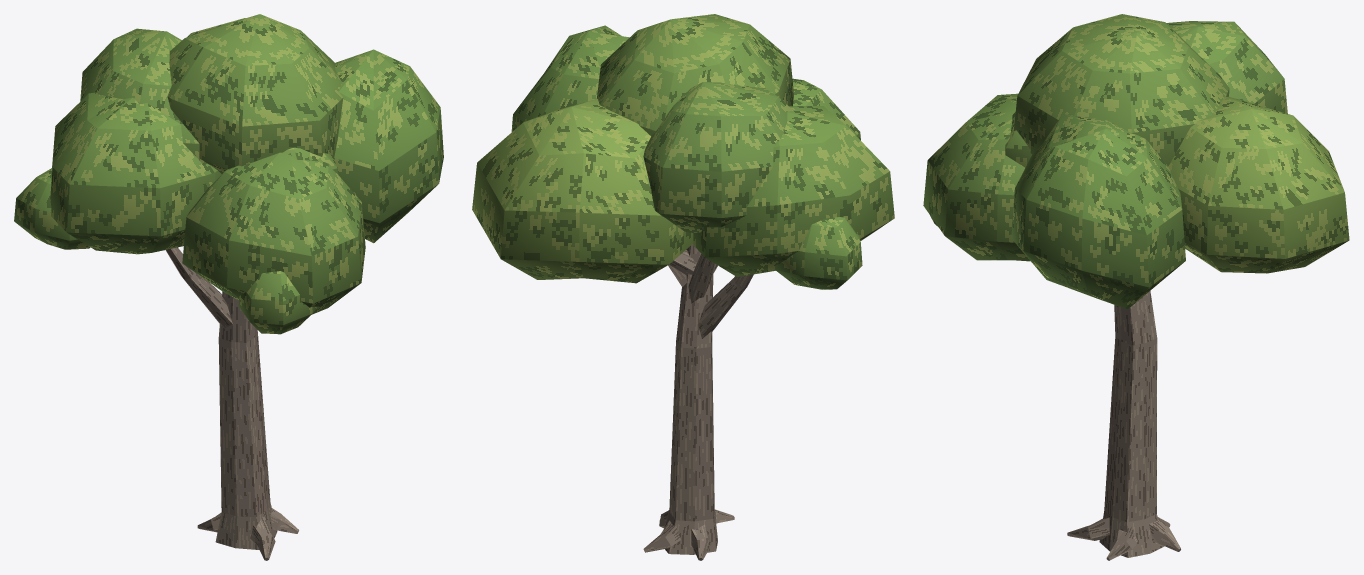
File: t_tree_maple.glb
3 views of the same model, side by side, from view 1: azimuth 30°, elevation 25°; view 2: azimuth 150°, elevation 25°; view 3: azimuth 270°, elevation 25° (orthographic).
Visible parts, largest first — view 1: t_tree_maple_mesh; view 2: t_tree_maple_mesh; view 3: t_tree_maple_mesh.
Boxes of the visible parts, box(x1,y1,x2,y2) form: t_tree_maple_mesh: box(14, 14, 443, 560); t_tree_maple_mesh: box(472, 14, 894, 560); t_tree_maple_mesh: box(923, 14, 1349, 560).
Size of the model in its own units: 3.19 by 4.3 by 3.2.
1 material, 1 textured.
